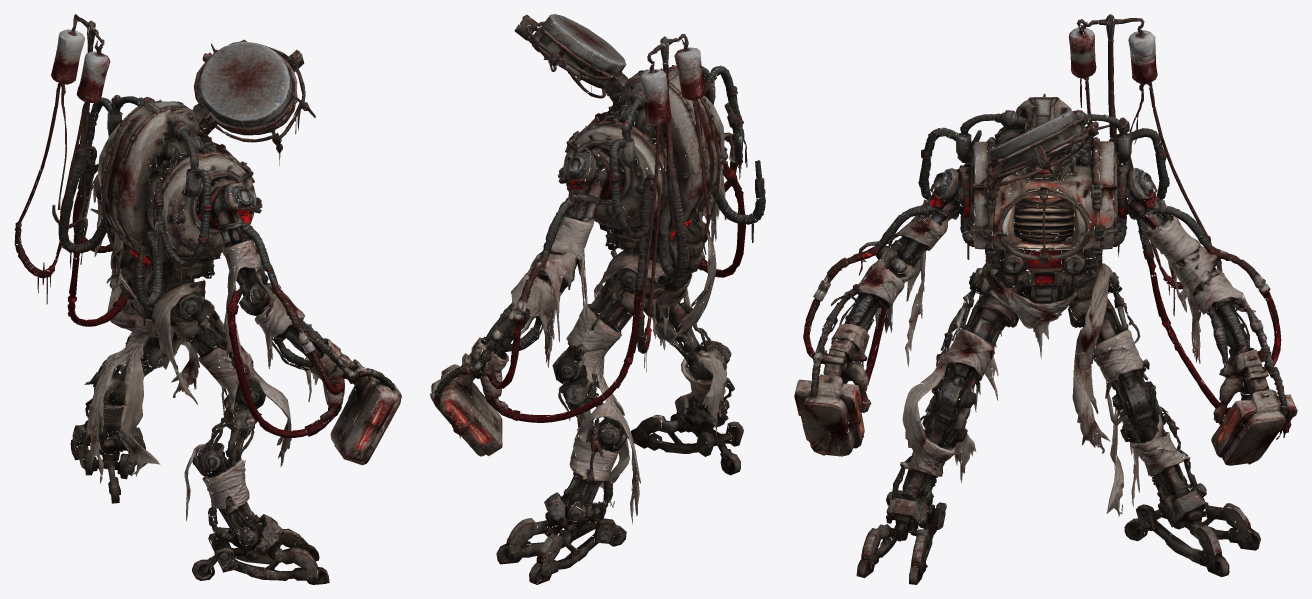
The model's file is tb_ward.glb.
3 views of the same model, side by side, from view 1: azimuth 30°, elevation 25°; view 2: azimuth 150°, elevation 25°; view 3: azimuth 270°, elevation 25° (orthographic).
Parts seen in each view (by area): view 1: tripo_node_37a7f0f6-61c7-4ff2-a0bf-8968f3258513; view 2: tripo_node_37a7f0f6-61c7-4ff2-a0bf-8968f3258513; view 3: tripo_node_37a7f0f6-61c7-4ff2-a0bf-8968f3258513.
Part boxes in pixels (x1,y1,x2,y2): tripo_node_37a7f0f6-61c7-4ff2-a0bf-8968f3258513: [14, 14, 401, 584]; tripo_node_37a7f0f6-61c7-4ff2-a0bf-8968f3258513: [430, 14, 765, 584]; tripo_node_37a7f0f6-61c7-4ff2-a0bf-8968f3258513: [794, 14, 1297, 584].
Size of the model in its own units: 0.4474 by 0.9796 by 0.8784.
Materials: 1 (1 with a texture image).
